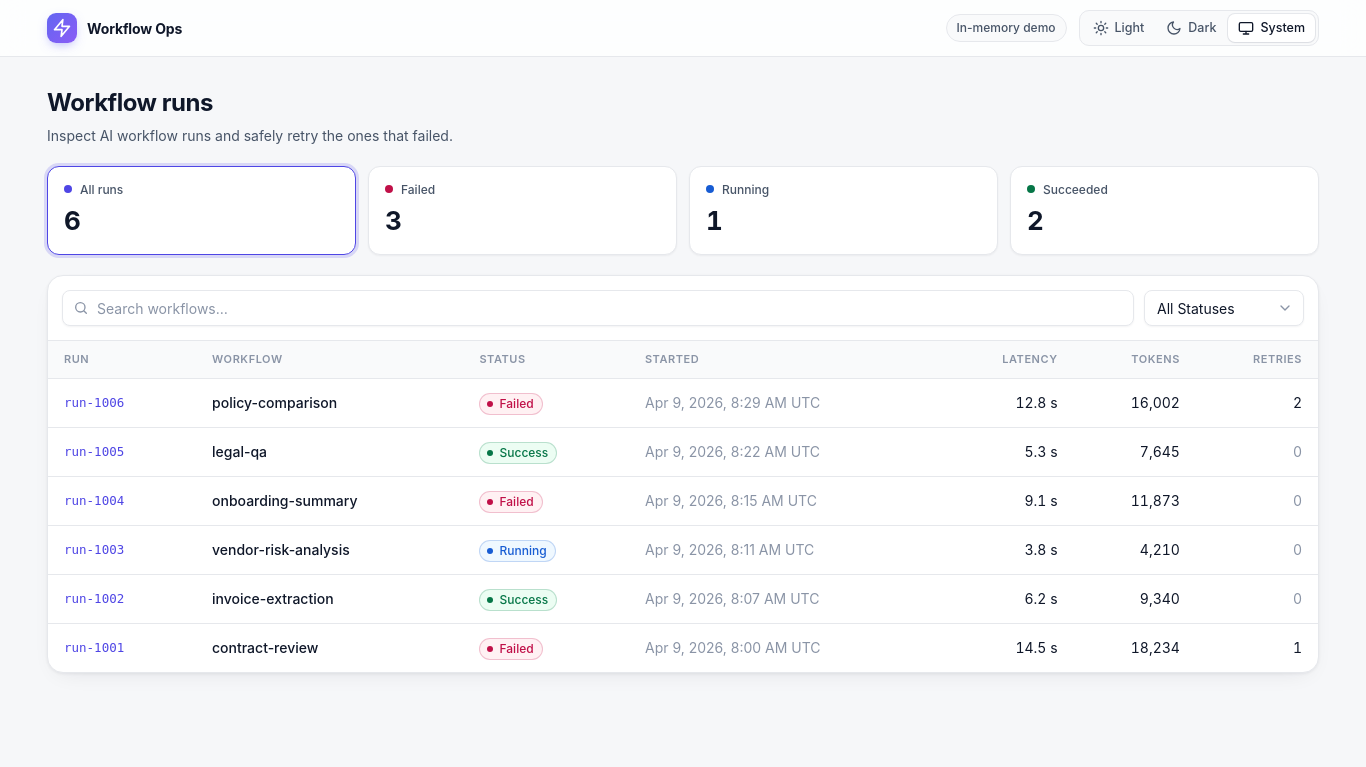
Test: Workflow runs console › retries a failed run, then polls until it succeeds and refreshes the list
Click the button "run-1001" at x=94, y=648, box [58, 637, 130, 659]
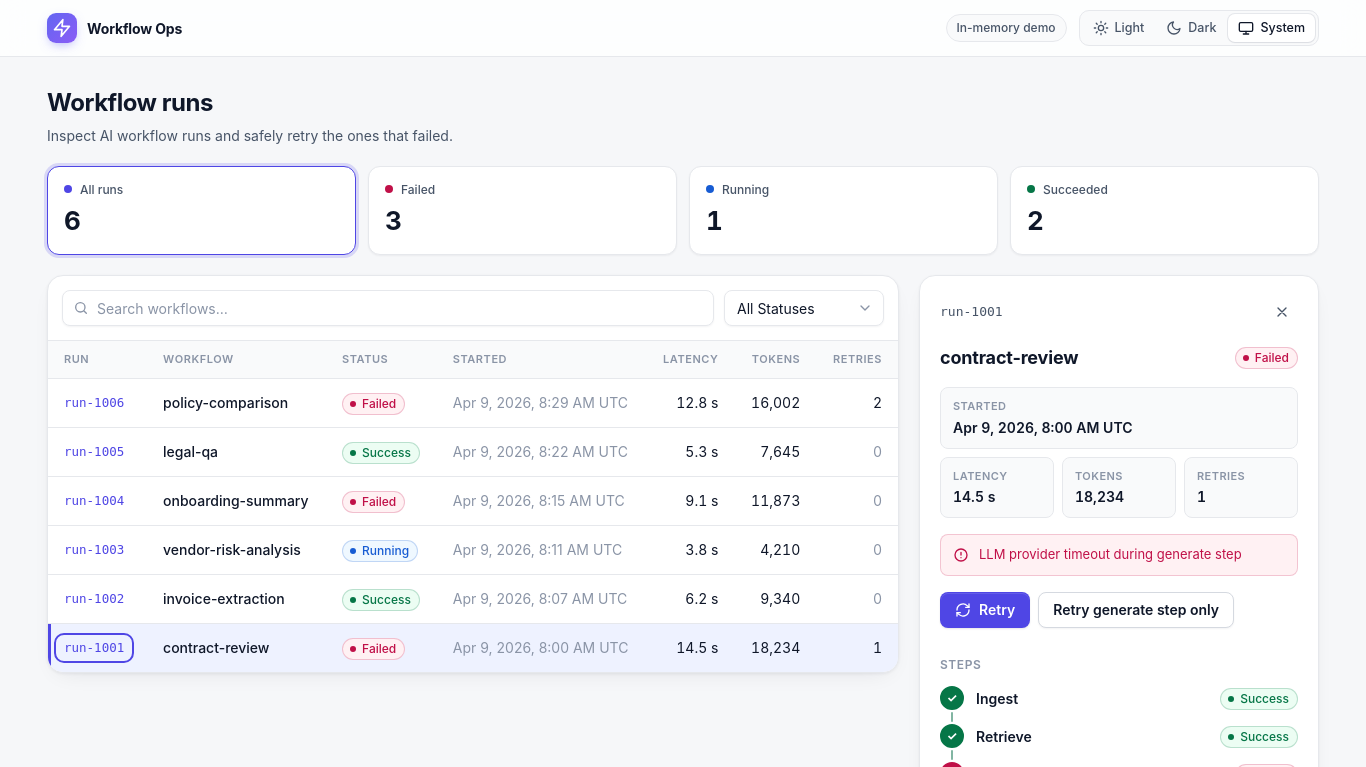
Click the button "Retry" at x=985, y=610, box [940, 592, 1030, 628]
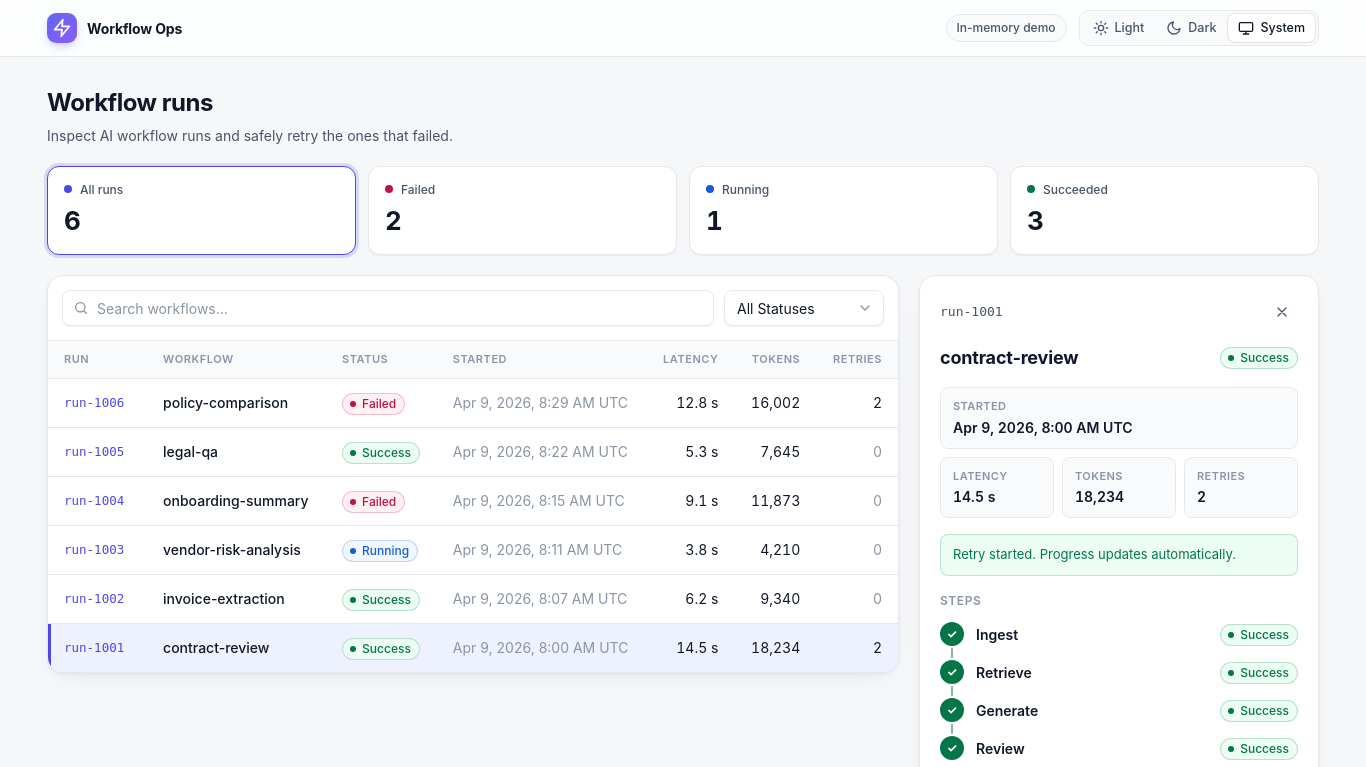
Result: the row that starts with "run-1001" shows "success" at [362, 640, 411, 656]
Result: the row that starts with "run-1001" shows "2" at [48, 623, 898, 672]
